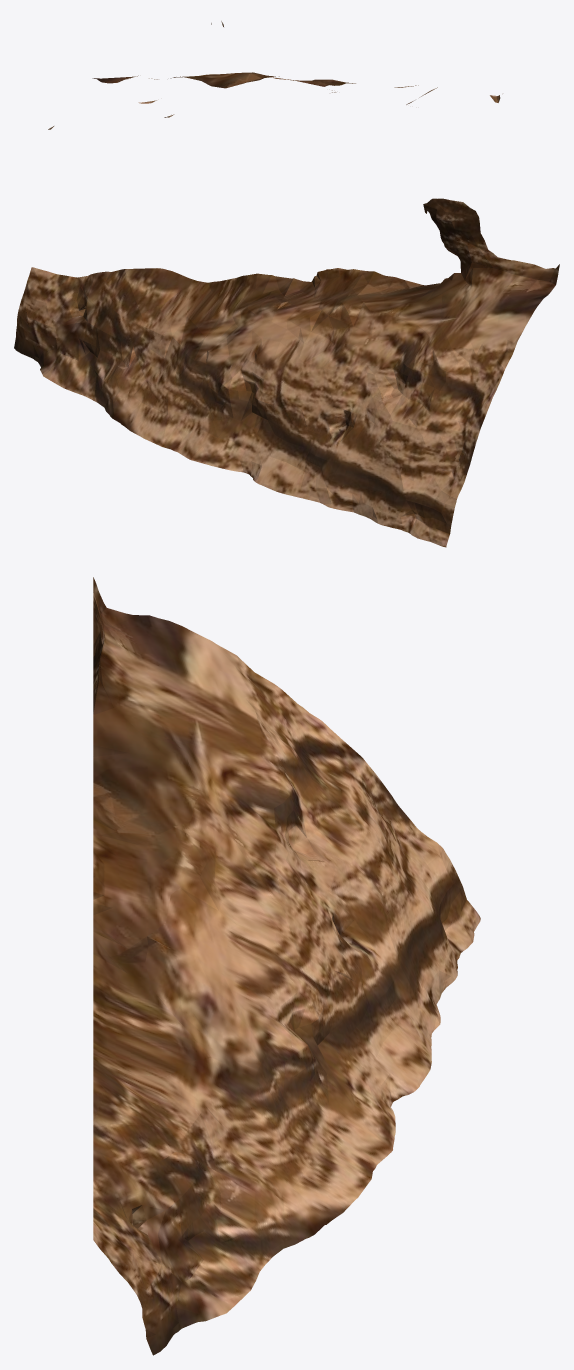
3 views of the same model, one above another, from view 1: azimuth 30°, elevation 25°; view 2: azimuth 150°, elevation 25°; view 3: azimuth 270°, elevation 25° (orthographic). The views are drawn at different scales.
Size of the model in its own units: 1.04 by 0.4504 by 0.3901.
1 material, 1 textured.
